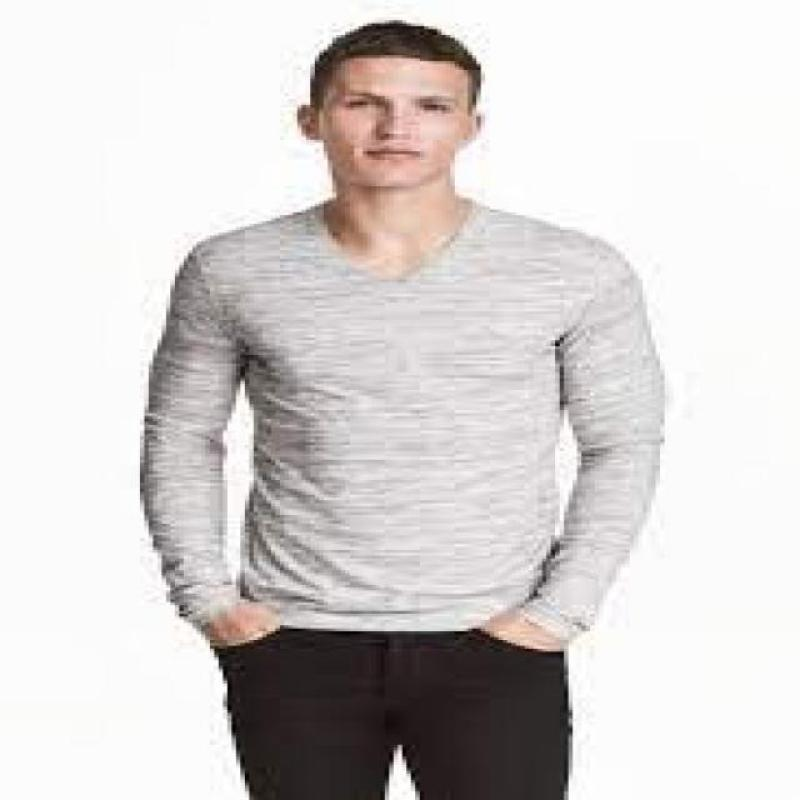long sleeve shirt: (135, 202, 665, 632)
trousers: (220, 622, 573, 800)
